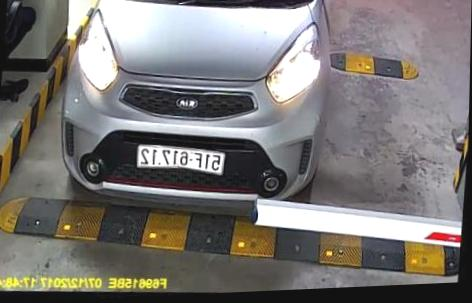License_Plate: (129, 135, 227, 181)
